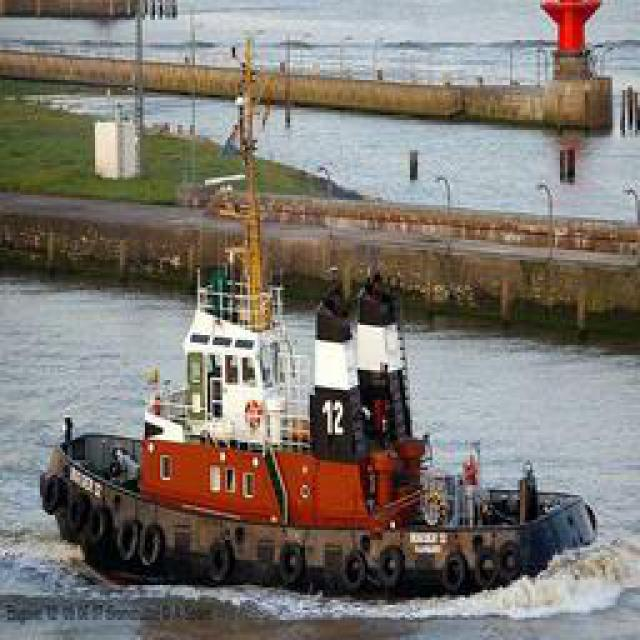Ship: (39, 238, 614, 593)
